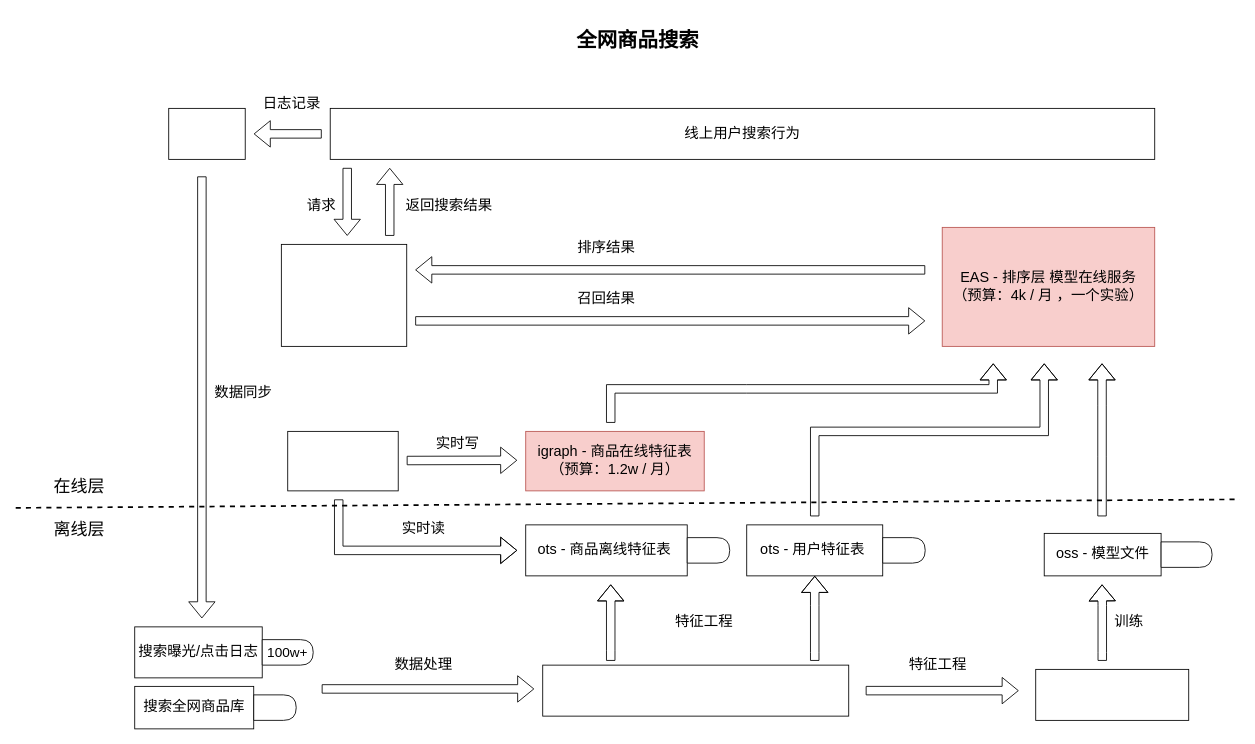
Some shapes in this 1255 by 744 pixel diagram are drawn without their labels. The box of each missing label's shape, as (x1, y1, x2, y2) in pixels:
odps - 数据表: (542, 664, 849, 716)
PAI - 训练平台: (1035, 669, 1189, 720)
SLS: (168, 108, 245, 159)
后端 - 商品特征实时更新: (287, 431, 398, 491)
后端 - 搜索服务: (280, 244, 407, 346)
